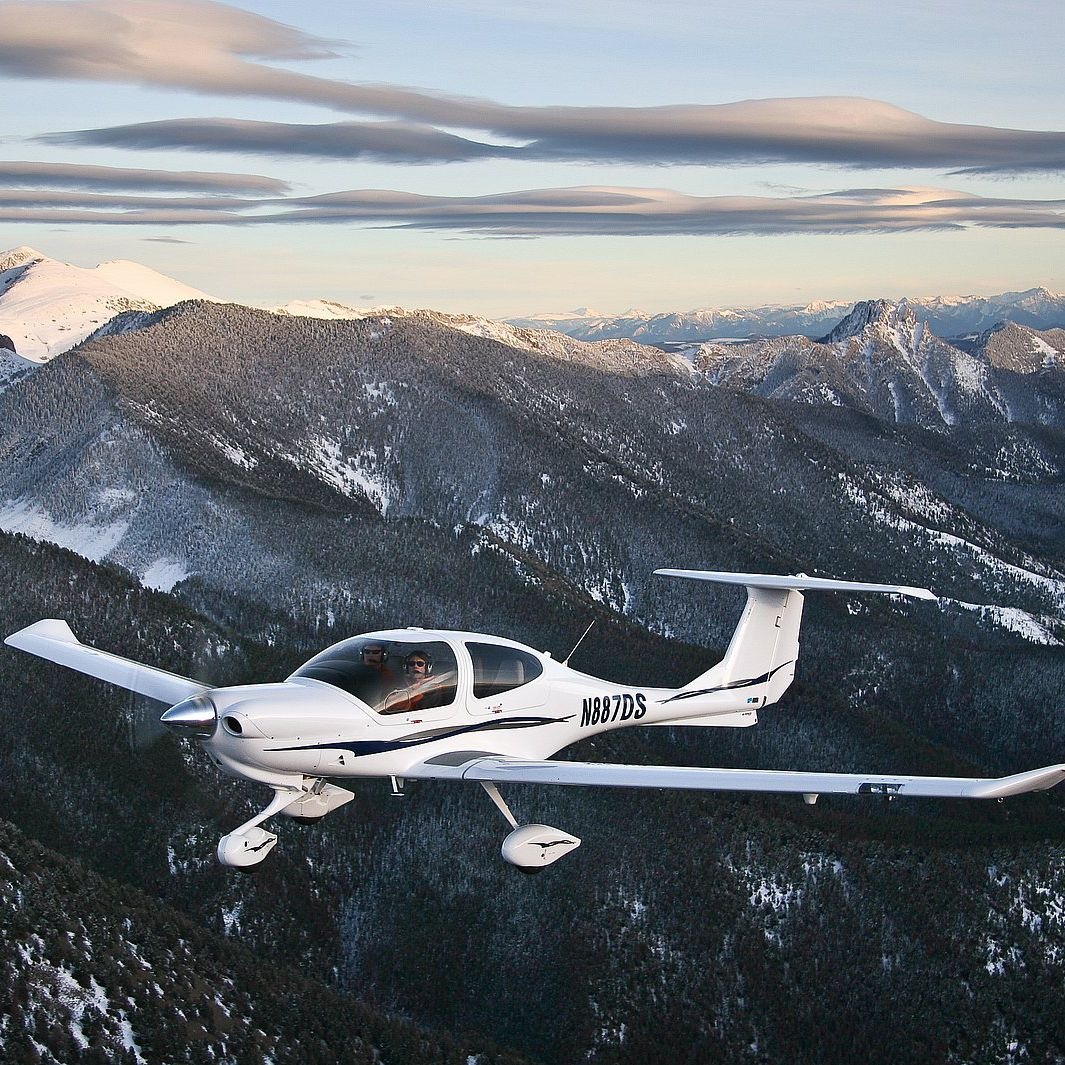Aeronef_de_loisir: (1, 524, 1065, 884)
